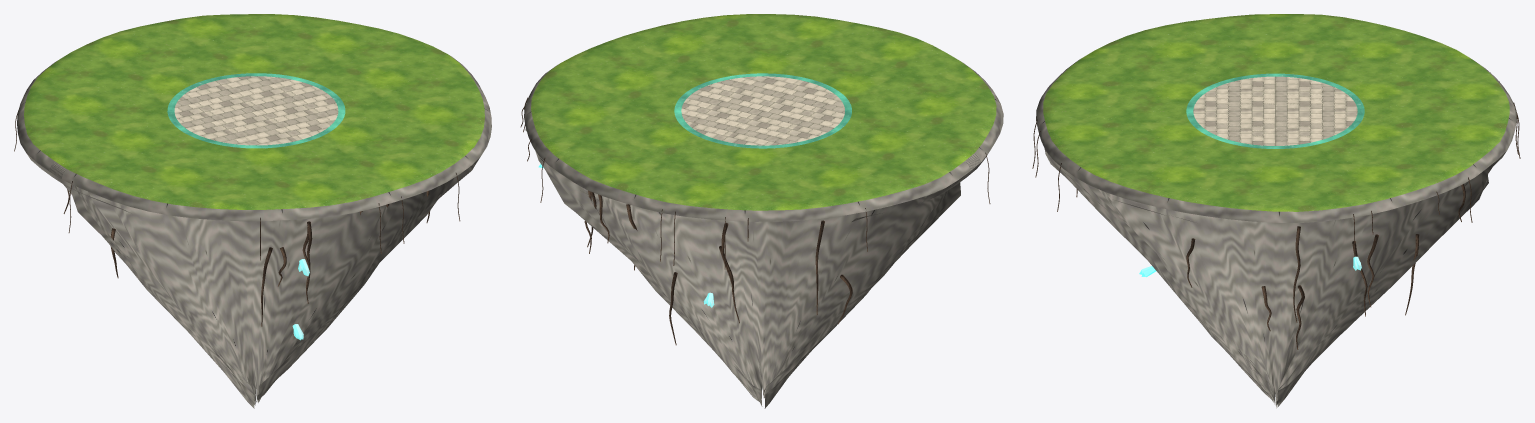
File: sky_platform_large.glb
3 renders of one model, left to right at view 1: azimuth 30°, elevation 25°; view 2: azimuth 150°, elevation 25°; view 3: azimuth 270°, elevation 25°, orthographic.
Visible parts, largest first — view 1: IslandTop-col, IslandRock, IslandRoots; view 2: IslandTop-col, IslandRock, IslandRoots; view 3: IslandTop-col, IslandRock, IslandRoots.
Boxes of the visible parts, x1=… form: IslandTop-col: x1=17, y1=14, x2=491, y2=221; IslandRock: x1=27, y1=154, x2=480, y2=408; IslandRoots: x1=14, y1=109, x2=460, y2=326; IslandTop-col: x1=524, y1=14, x2=1003, y2=221; IslandRock: x1=525, y1=128, x2=987, y2=408; IslandRoots: x1=520, y1=97, x2=990, y2=345; IslandTop-col: x1=1036, y1=14, x2=1516, y2=223; IslandRock: x1=1044, y1=149, x2=1506, y2=408; IslandRoots: x1=1032, y1=72, x2=1520, y2=349.
Size of the model in its own units: 41.08 by 28.05 by 41.56.
6 materials, 5 textured.
